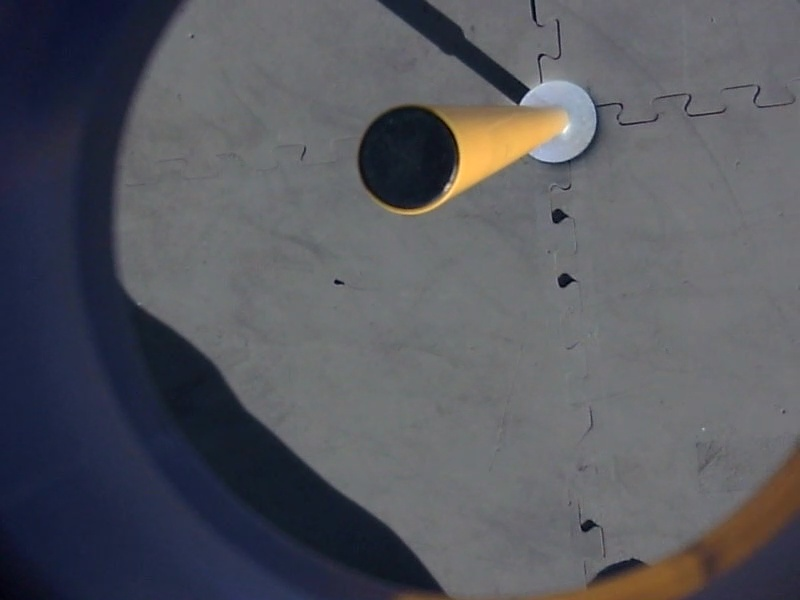tip: (352, 100, 468, 220)
